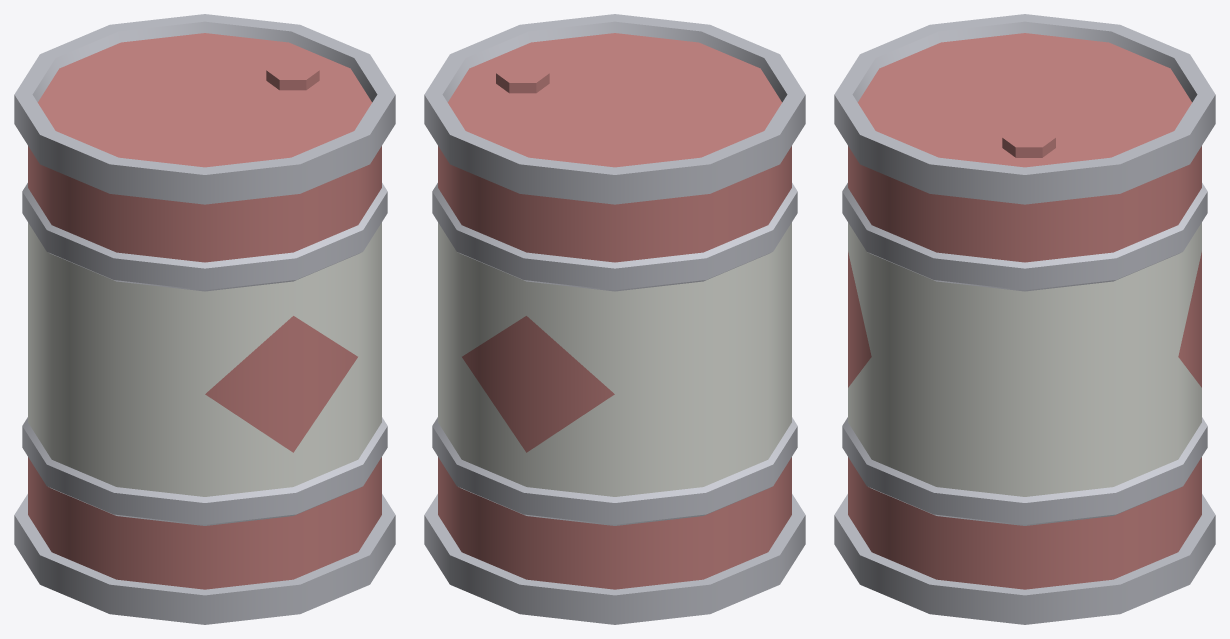
Rendered from ExplodingBarrel.fbx.
3 renders of one model, left to right at view 1: azimuth 30°, elevation 25°; view 2: azimuth 150°, elevation 25°; view 3: azimuth 270°, elevation 25°, orthographic.
Parts seen in each view (by area): view 1: ExplodingBarrel.001; view 2: ExplodingBarrel.001; view 3: ExplodingBarrel.001.
Part boxes in pixels (x1,y1,x2,y2): ExplodingBarrel.001: (14, 14, 395, 624); ExplodingBarrel.001: (424, 14, 805, 624); ExplodingBarrel.001: (834, 14, 1215, 624).
Bounding box in the file's own units: 0.785 × 1.02 × 0.785.
